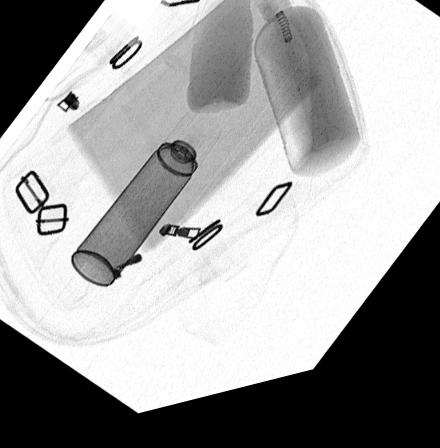Sprayer: (68, 121, 220, 292)
